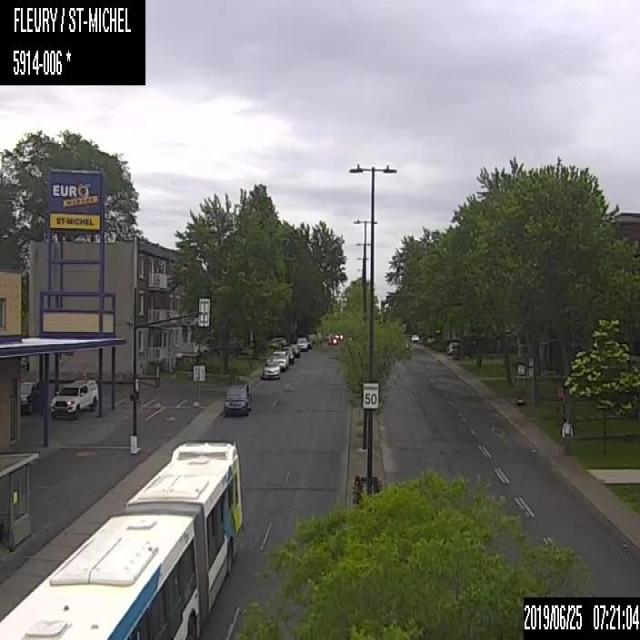bus: (0, 436, 245, 639)
pedestrian: (559, 413, 574, 458)
vehicle: (50, 374, 98, 420), (221, 378, 253, 414), (20, 380, 40, 418), (268, 349, 290, 369), (260, 358, 279, 377), (294, 334, 307, 352), (327, 334, 337, 347)
